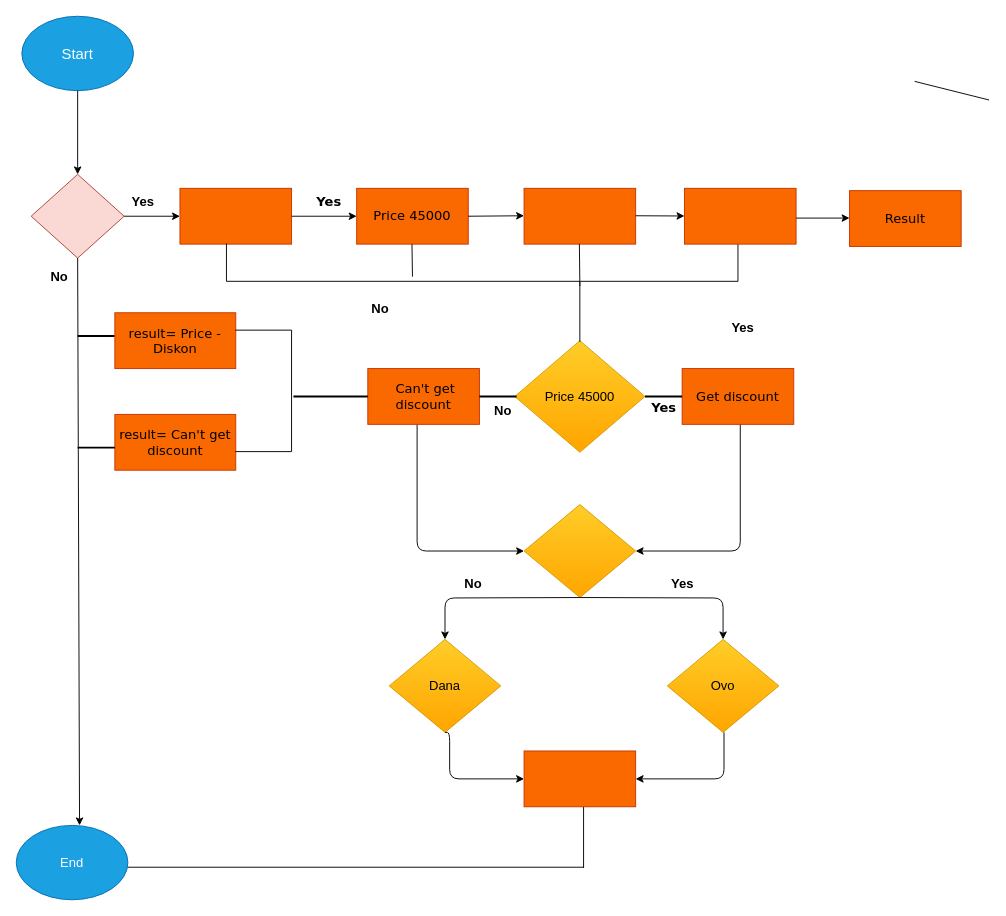
Some shapes in this 1006 by 916 pixel diagram are drawn without their labels. The shapes that lost their labels are listed below. From the top down, each one's centre as x and y in pixels, then its label:
(x=77, y=215): Open App
(x=235, y=215): Menu Drink
(x=579, y=215): Discount
(x=740, y=215): Payment Method
(x=579, y=551): Payment
(x=579, y=778): Payement Completed
